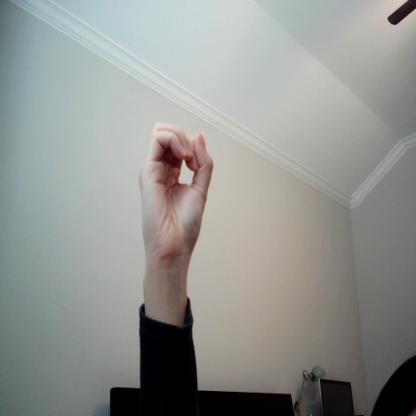zero: (139, 119, 219, 250)
